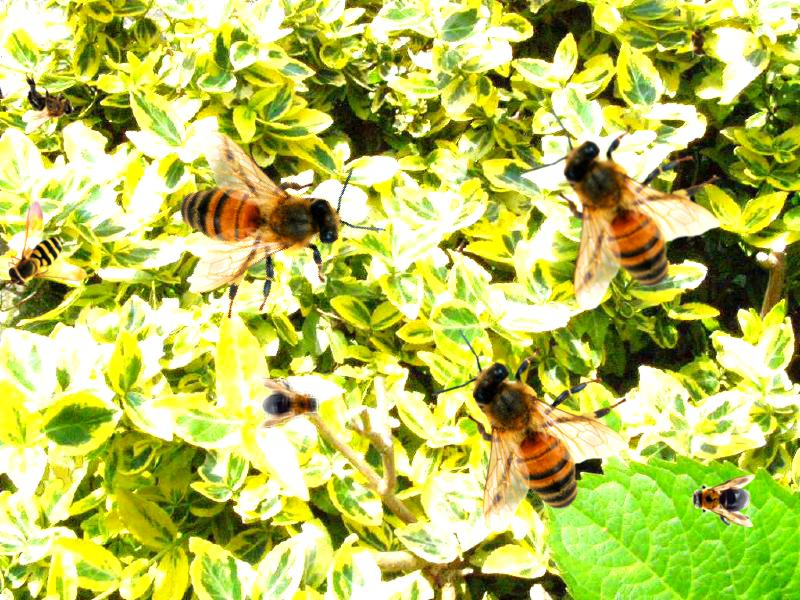Bee: (121, 81, 406, 365), (521, 107, 720, 311), (430, 329, 629, 533), (5, 200, 87, 288), (687, 475, 755, 527), (256, 377, 324, 429), (22, 72, 75, 134), (688, 22, 710, 62)
